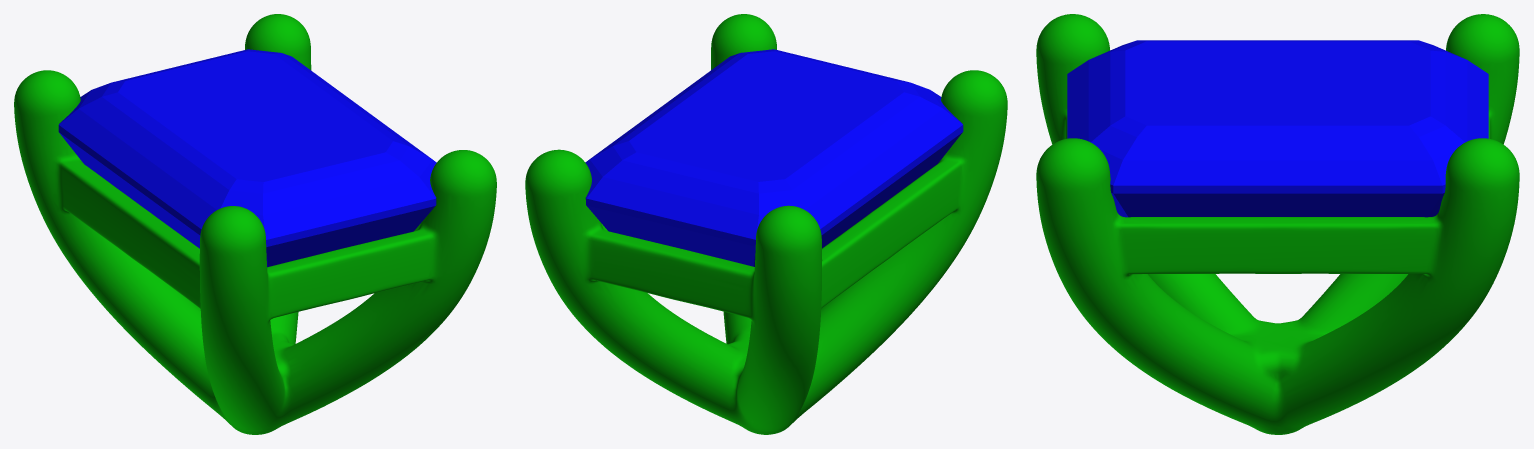
3 renders of one model, left to right at view 1: azimuth 30°, elevation 25°; view 2: azimuth 150°, elevation 25°; view 3: azimuth 270°, elevation 25°, orthographic. The views are drawn at different scales.
Visible parts, largest first — view 1: Metal01, Diamond_Emerald; view 2: Metal01, Diamond_Emerald; view 3: Metal01, Diamond_Emerald.
Part boxes in pixels (<box>): Metal01: <box>14,14,496,434</box>; Diamond_Emerald: <box>58,49,436,267</box>; Metal01: <box>525,14,1007,434</box>; Diamond_Emerald: <box>585,49,963,266</box>; Metal01: <box>1036,14,1519,434</box>; Diamond_Emerald: <box>1067,40,1488,217</box>.
Bounding box in the file's own units: 5.3 × 5.54 × 6.97.
